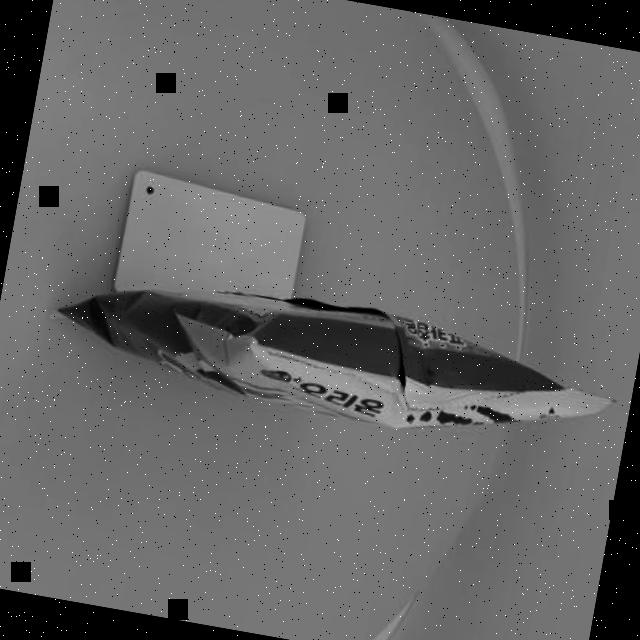snack_bag: (21, 204, 640, 530)
